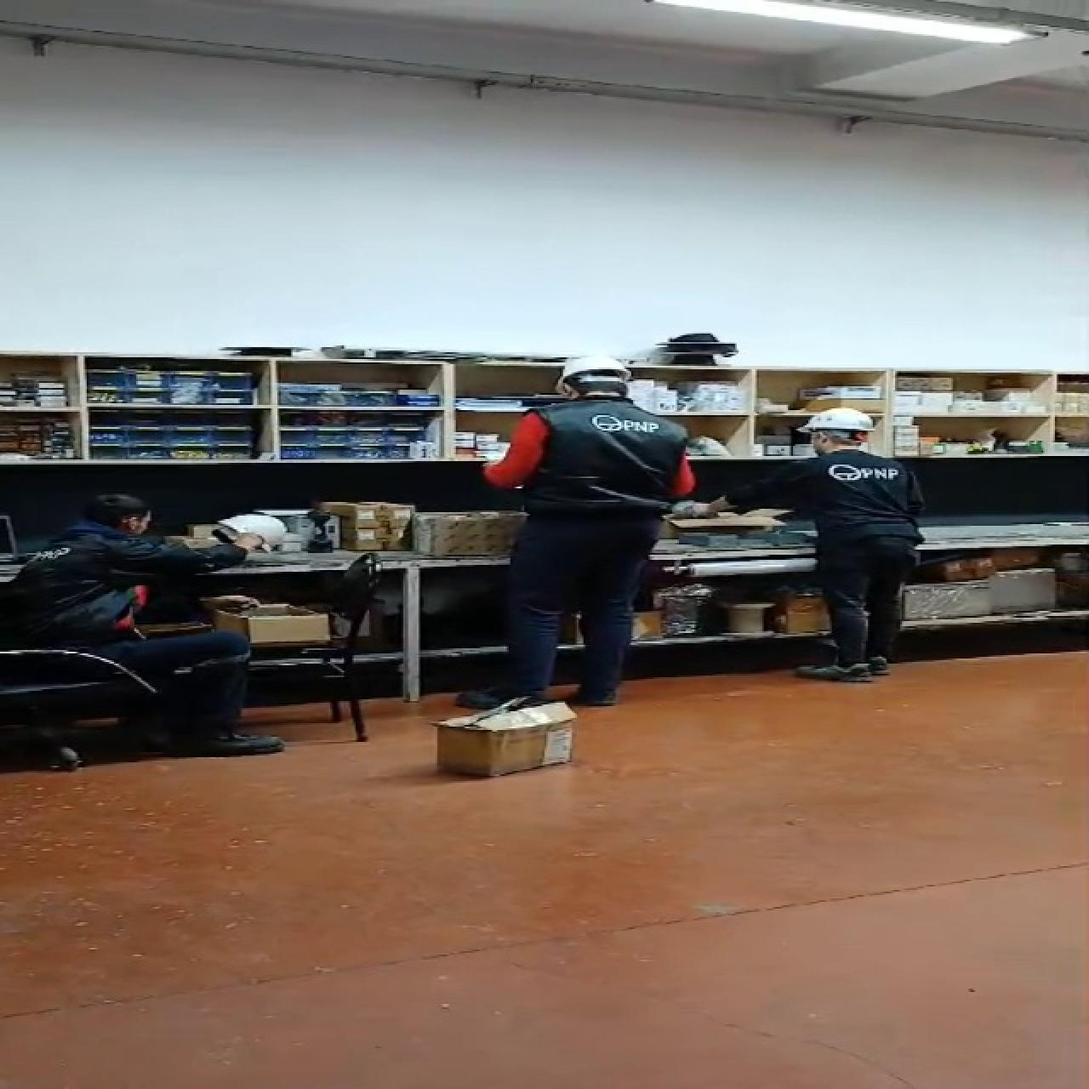NO_Safety_Vest: (534, 405, 684, 521), (0, 533, 138, 643), (807, 453, 907, 538)
Person: (0, 489, 322, 760), (474, 332, 708, 697), (742, 393, 946, 681)
